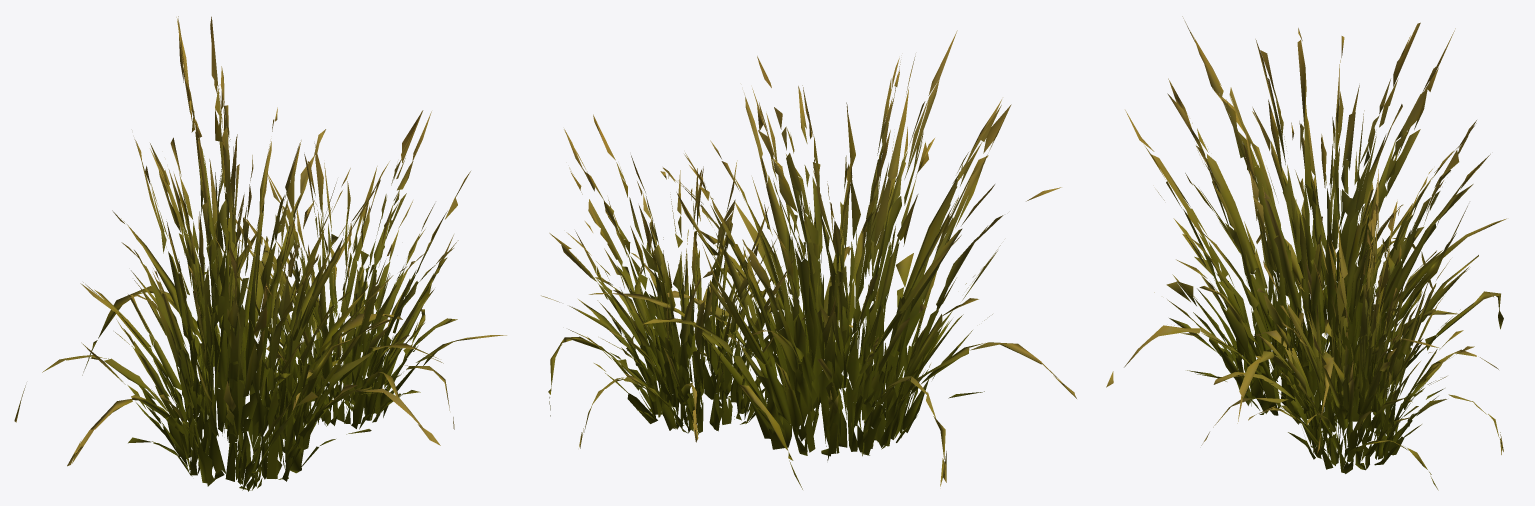
File: desert_grass_fine_pair.glb
3 views of the same model, side by side, from view 1: azimuth 30°, elevation 25°; view 2: azimuth 150°, elevation 25°; view 3: azimuth 270°, elevation 25° (orthographic). The views are drawn at different scales.
Parts seen in each view (by area): view 1: desert_grass_fine_pair; view 2: desert_grass_fine_pair; view 3: desert_grass_fine_pair.
Part boxes in pixels (x1=…): desert_grass_fine_pair: x1=14, y1=16, x2=506, y2=491; desert_grass_fine_pair: x1=541, y1=30, x2=1076, y2=489; desert_grass_fine_pair: x1=1106, y1=16, x2=1506, y2=490.
Size of the model in its own units: 1.17 by 0.9985 by 0.963.
1 material, 1 textured.
